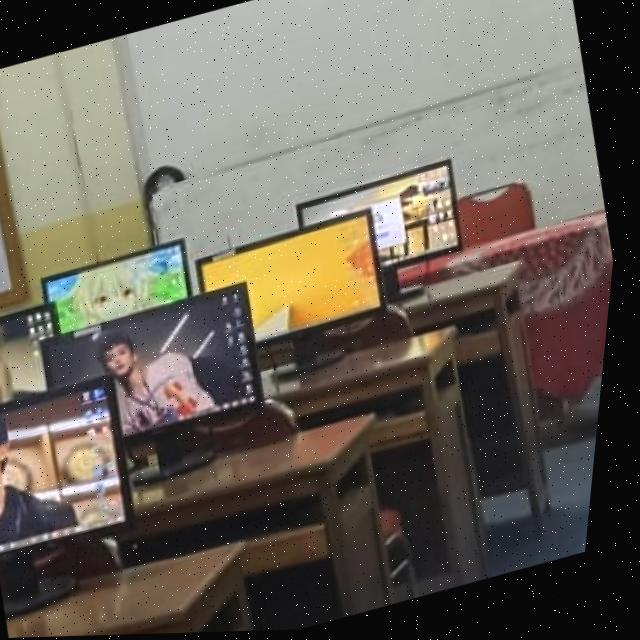onscreen: (48, 286, 271, 437), (0, 379, 138, 553), (203, 213, 388, 342), (301, 162, 466, 267), (49, 241, 195, 332), (0, 308, 60, 405)
